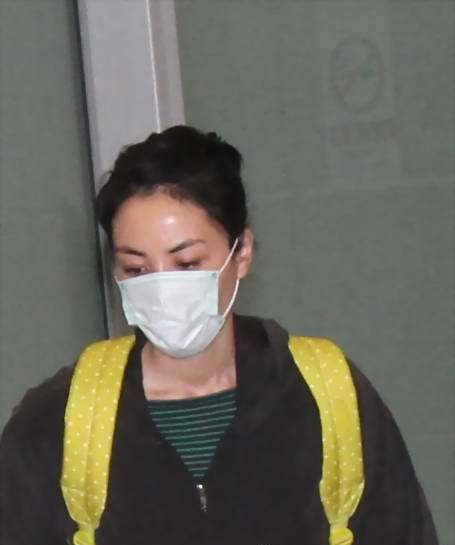face_mask: (111, 192, 231, 355)
